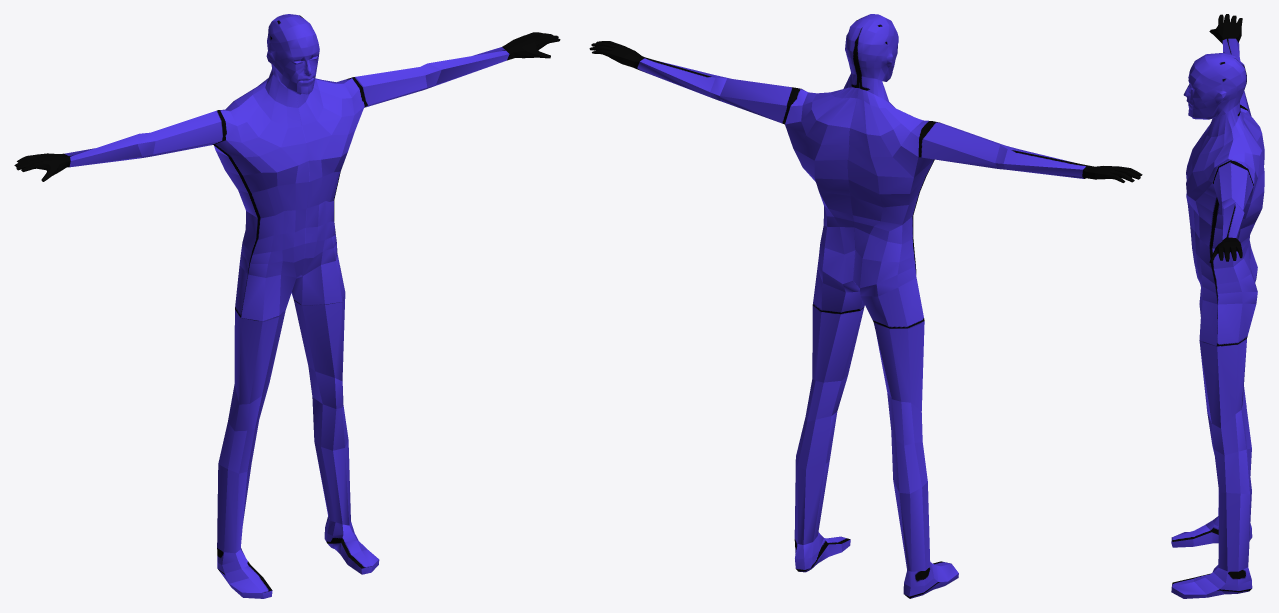
The model's file is testMeshMaterial3.glb.
The picture shows the model from 3 angles, left to right: view 1: azimuth 30°, elevation 25°; view 2: azimuth 150°, elevation 25°; view 3: azimuth 270°, elevation 25°; orthographic projection. The views are drawn at different scales.
Visible parts, largest first — view 1: tronToon.001; view 2: tronToon.001; view 3: tronToon.001.
Boxes of the visible parts, x1=… form: tronToon.001: x1=14, y1=14, x2=560, y2=598; tronToon.001: x1=589, y1=14, x2=1142, y2=598; tronToon.001: x1=1171, y1=14, x2=1264, y2=598.
Size of the model in its own units: 7.17 by 6.96 by 1.15.
Materials: 1 (1 with a texture image).
